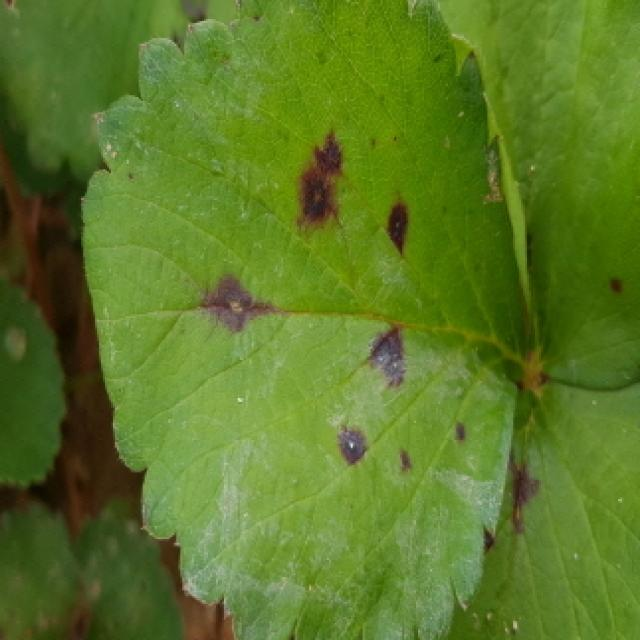Leaf Spot: (81, 0, 529, 640), (440, 0, 640, 391), (449, 372, 640, 640), (0, 499, 91, 640)
